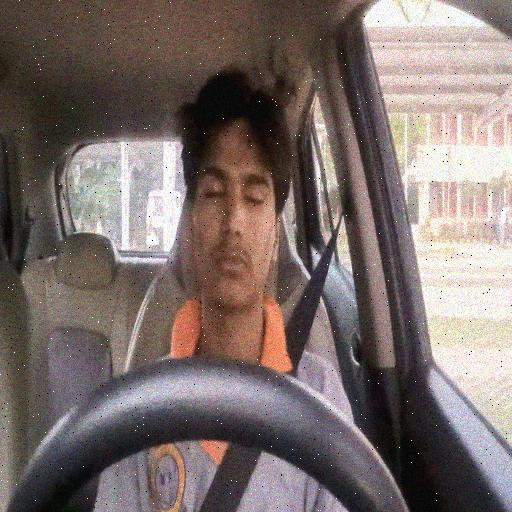sleepy: (187, 80, 291, 315)
